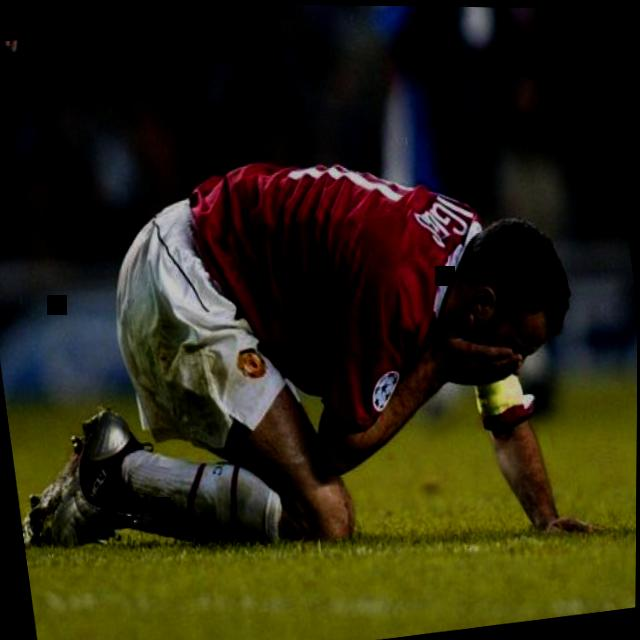Fall-Detected: (0, 94, 613, 602)
